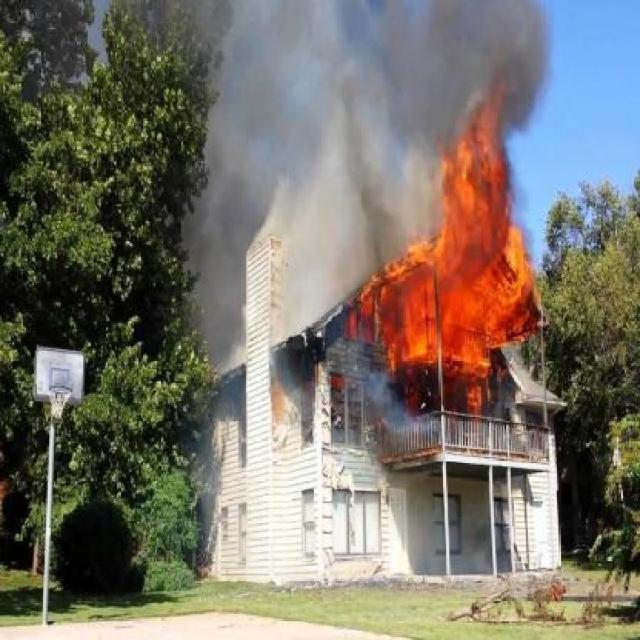Fire: (278, 106, 594, 441)
Smoke: (224, 12, 426, 212)
